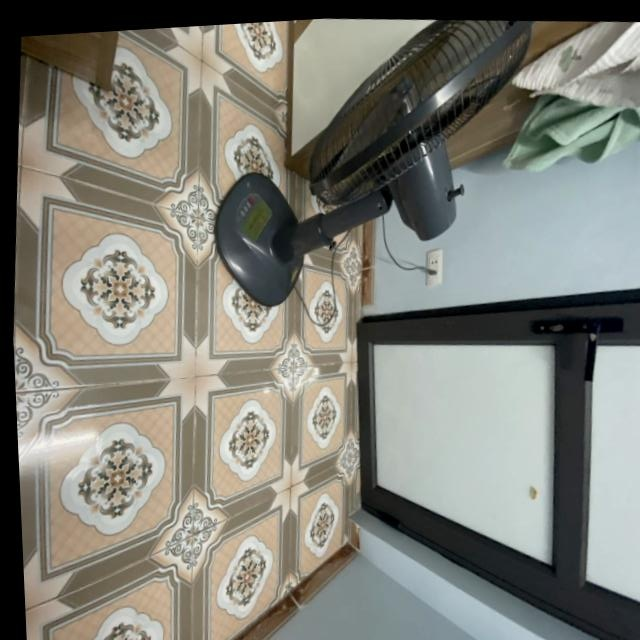outlet: (425, 247, 446, 287)
